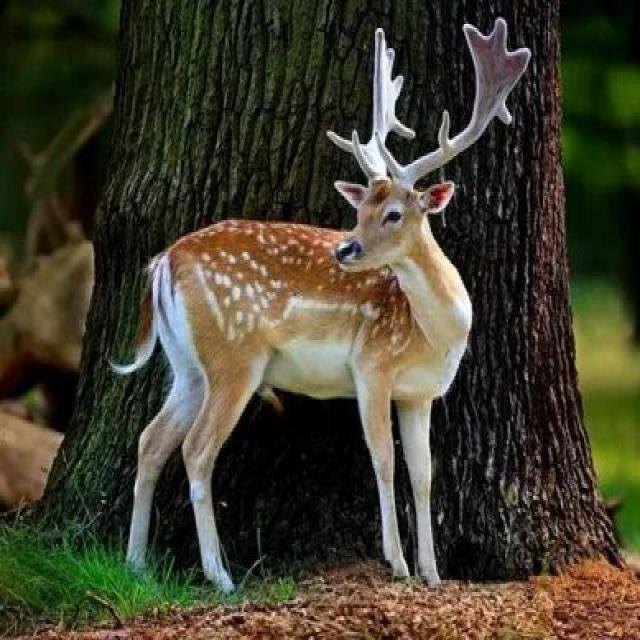deer: (125, 103, 545, 545)
